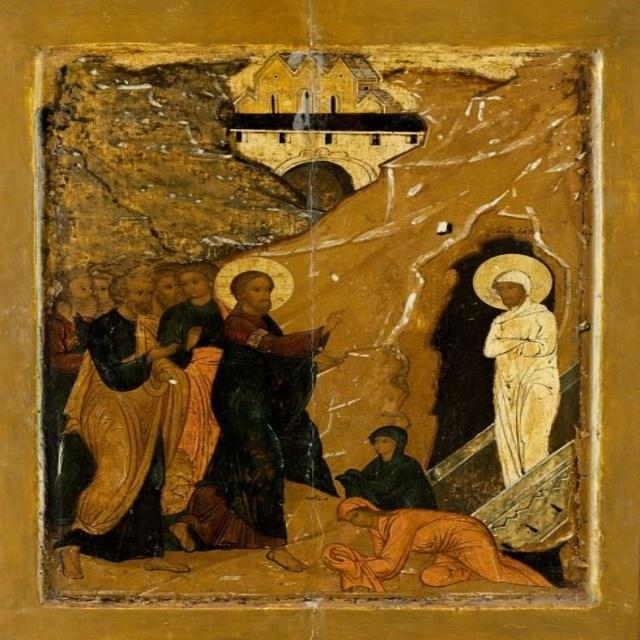aura: (470, 252, 555, 312), (212, 256, 294, 312)
castle: (217, 45, 405, 115)
christ: (213, 254, 339, 539)
christ_hand: (319, 304, 350, 343)
person: (58, 264, 192, 584), (153, 257, 239, 541), (322, 496, 556, 593), (41, 269, 102, 548), (337, 413, 444, 509)
saint: (464, 241, 563, 492)
tomb: (397, 205, 586, 555)
